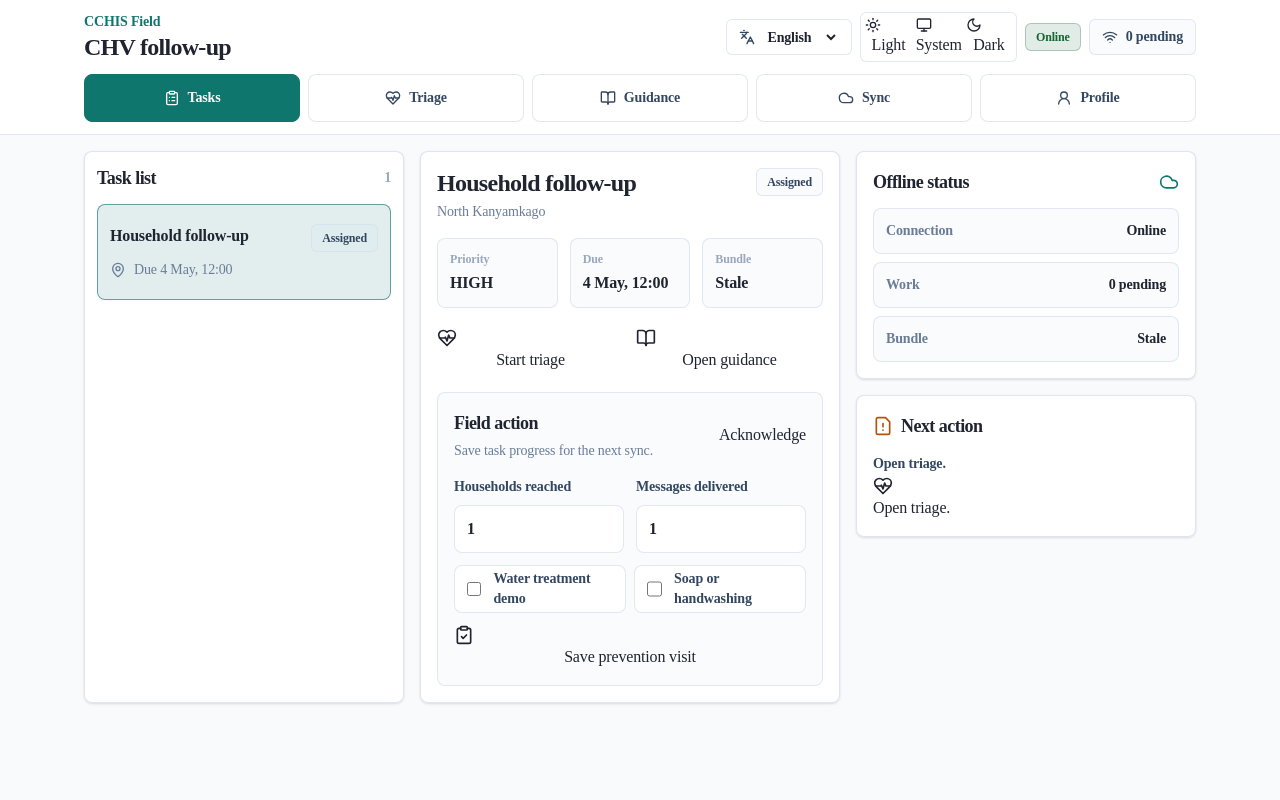
Scenario: ChvOfflinePage › requests a selected live language bundle and marks missing translation fallback
Select "Kiswahili" in the dropdown named "Language" at (802, 37), box [764, 28, 840, 46]
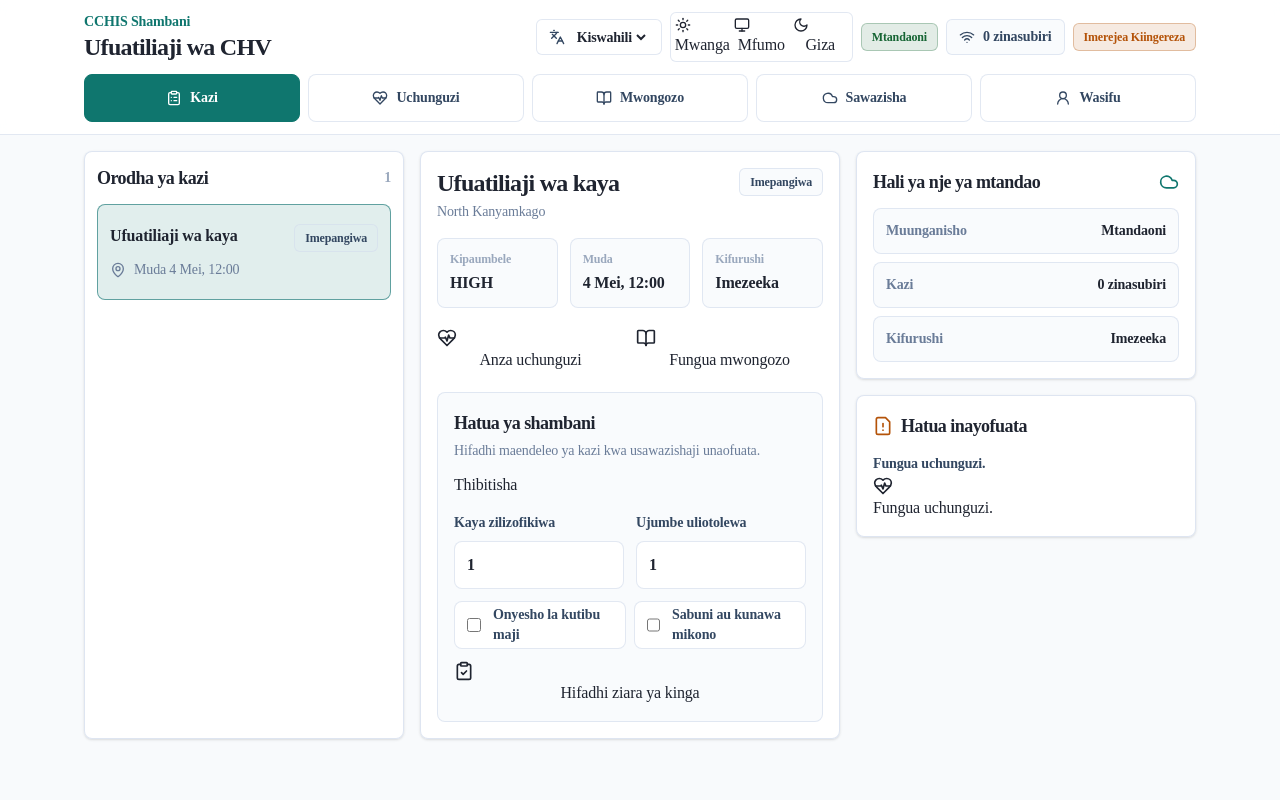
Result: the text "Imerejea Kiingereza" is shown at [1072, 23, 1196, 51]
